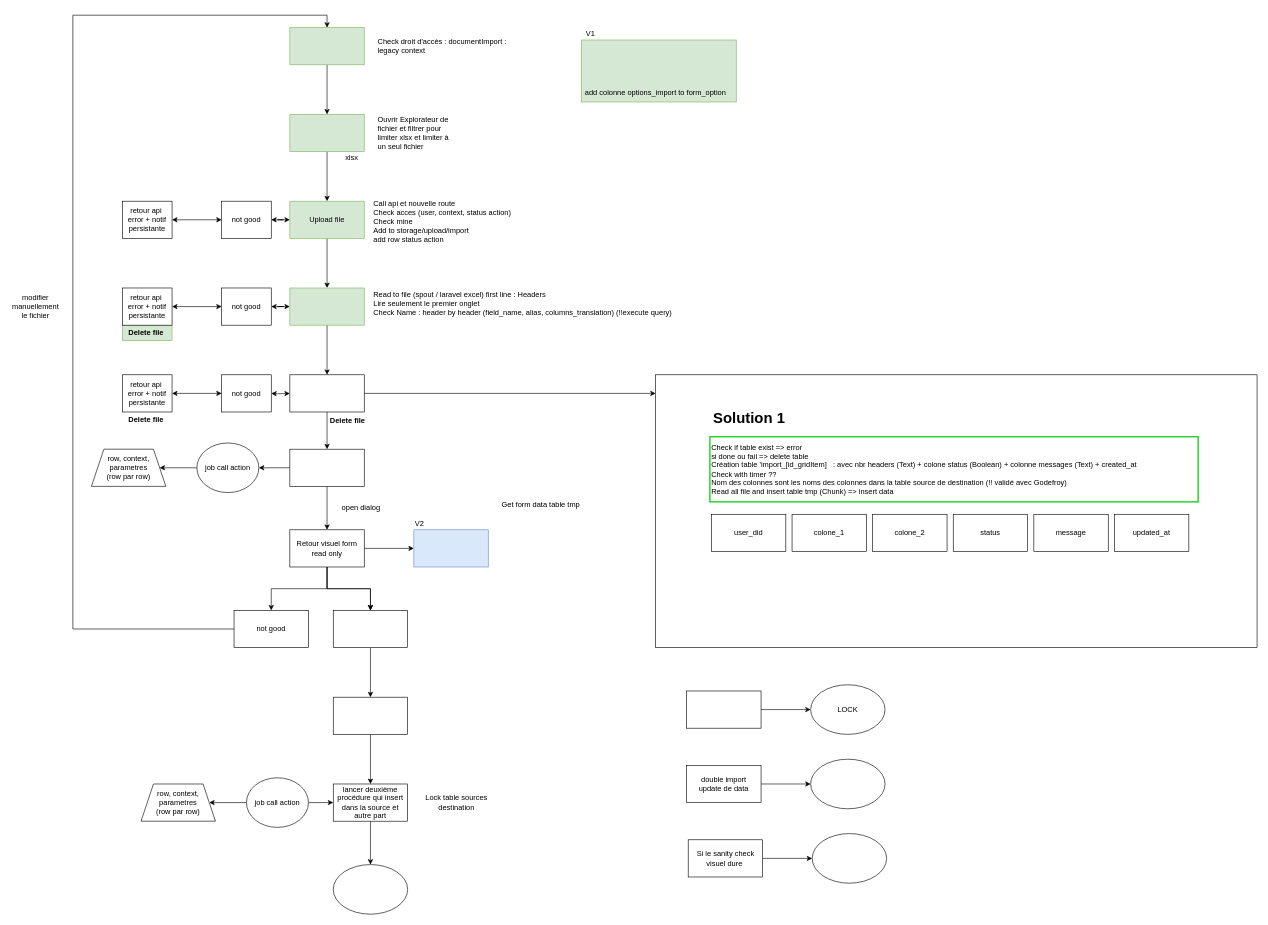
Some shapes in this 1268 by 925 pixel diagram are drawn without their labels. Here are the shapes that lost their labels. From the top down, the box of each, then its label:
(289, 27, 364, 65): Import
(581, 39, 736, 102): Paramètrage : - Procédure 1 - Procédure 2
(289, 114, 364, 152): Selectionner le file
(289, 287, 364, 325): Check
(289, 374, 364, 412): Charger dans table temporaire
(289, 449, 364, 486): première procedure sanity check
(413, 529, 488, 567): form editable et relancer la procédure
(333, 610, 408, 648): good
(333, 697, 408, 734): import call api
(686, 690, 761, 728): Changement de table pendant import
(810, 759, 885, 809): On gère pas ça
(812, 833, 887, 883): call api delete table
(333, 864, 408, 914): succes delete table
